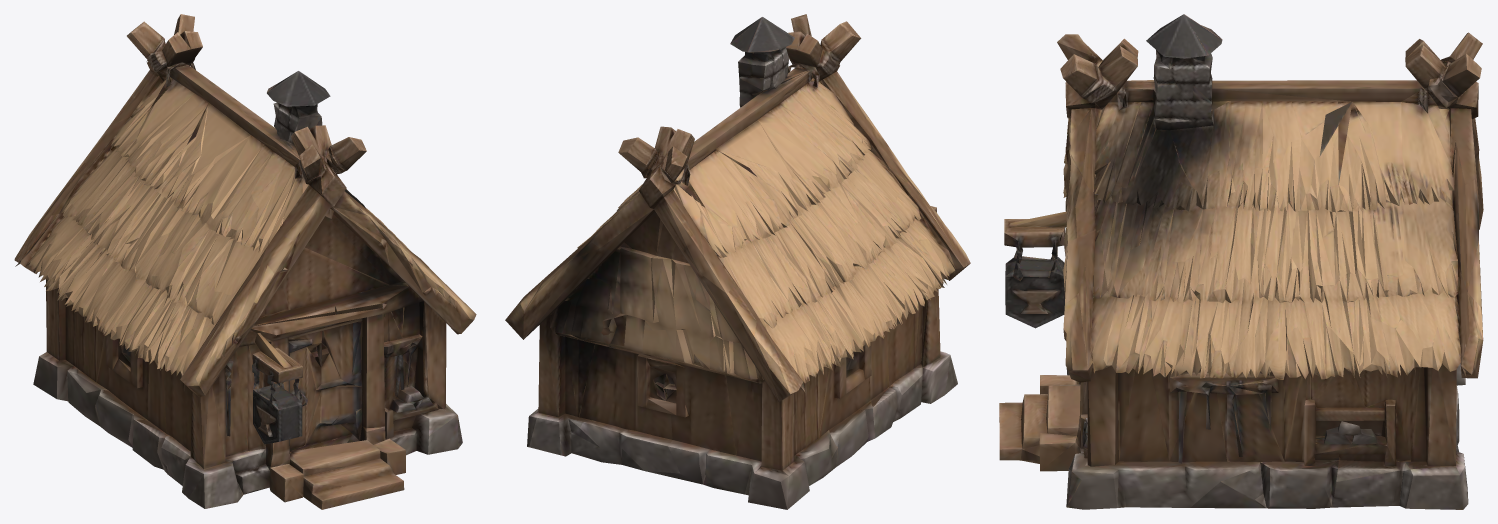
Rendered from smith-hut.glb.
3 views of the same model, side by side, from view 1: azimuth 30°, elevation 25°; view 2: azimuth 150°, elevation 25°; view 3: azimuth 270°, elevation 25° (orthographic). The views are drawn at different scales.
Visible parts, largest first — view 1: output_unwrapped, output_unwrapped.001; view 2: output_unwrapped; view 3: output_unwrapped, output_unwrapped.001.
Boxes of the visible parts, box(x1,y1,x2,y2) form: output_unwrapped: box(14, 14, 476, 509); output_unwrapped.001: box(252, 333, 302, 444); output_unwrapped: box(505, 14, 970, 509); output_unwrapped: box(999, 14, 1483, 509); output_unwrapped.001: box(1004, 211, 1066, 328).
Bounding box in the file's own units: 3.47 × 4 × 4.07.
1 material, 1 textured.
